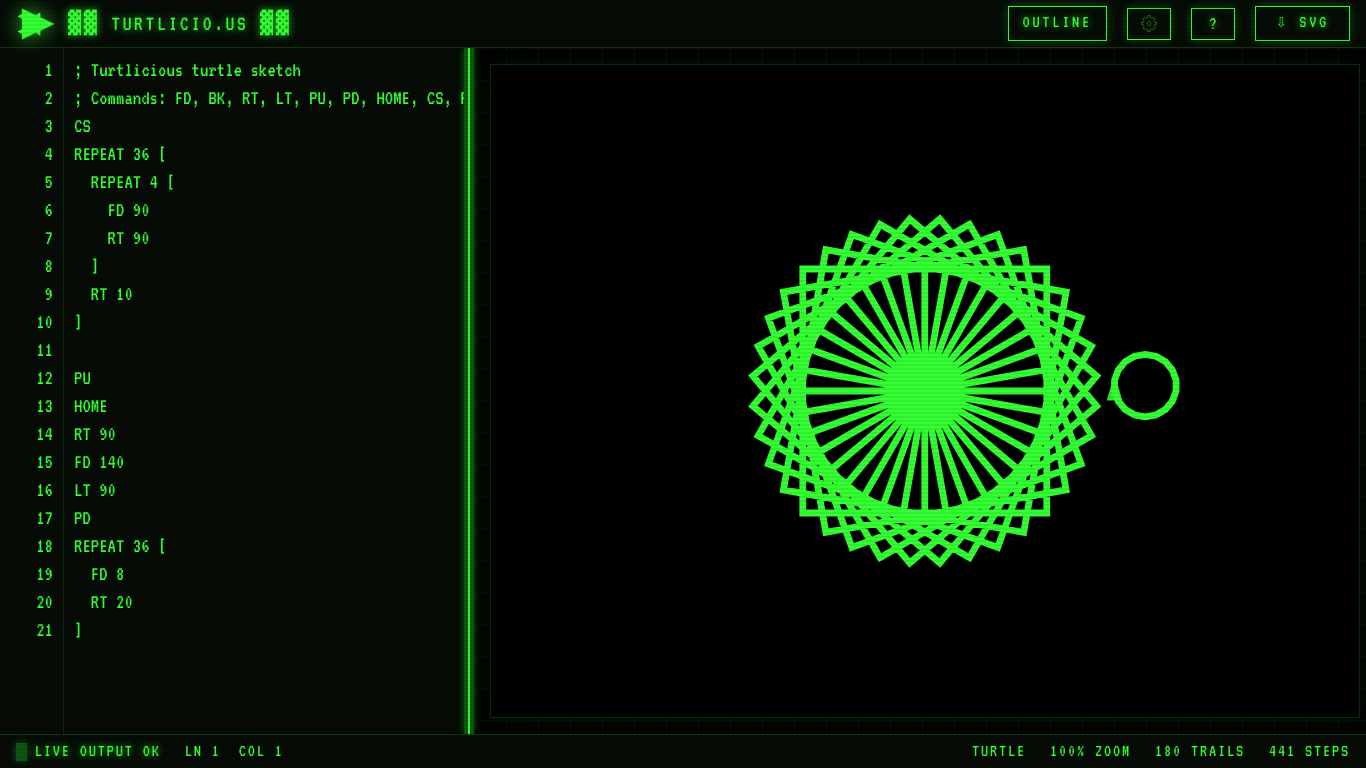
Test: App › opens and closes the configuration modal
This screenshot has width=1366, height=768.
Click the button named "open configuration" at (1149, 24), box [1127, 8, 1171, 40]
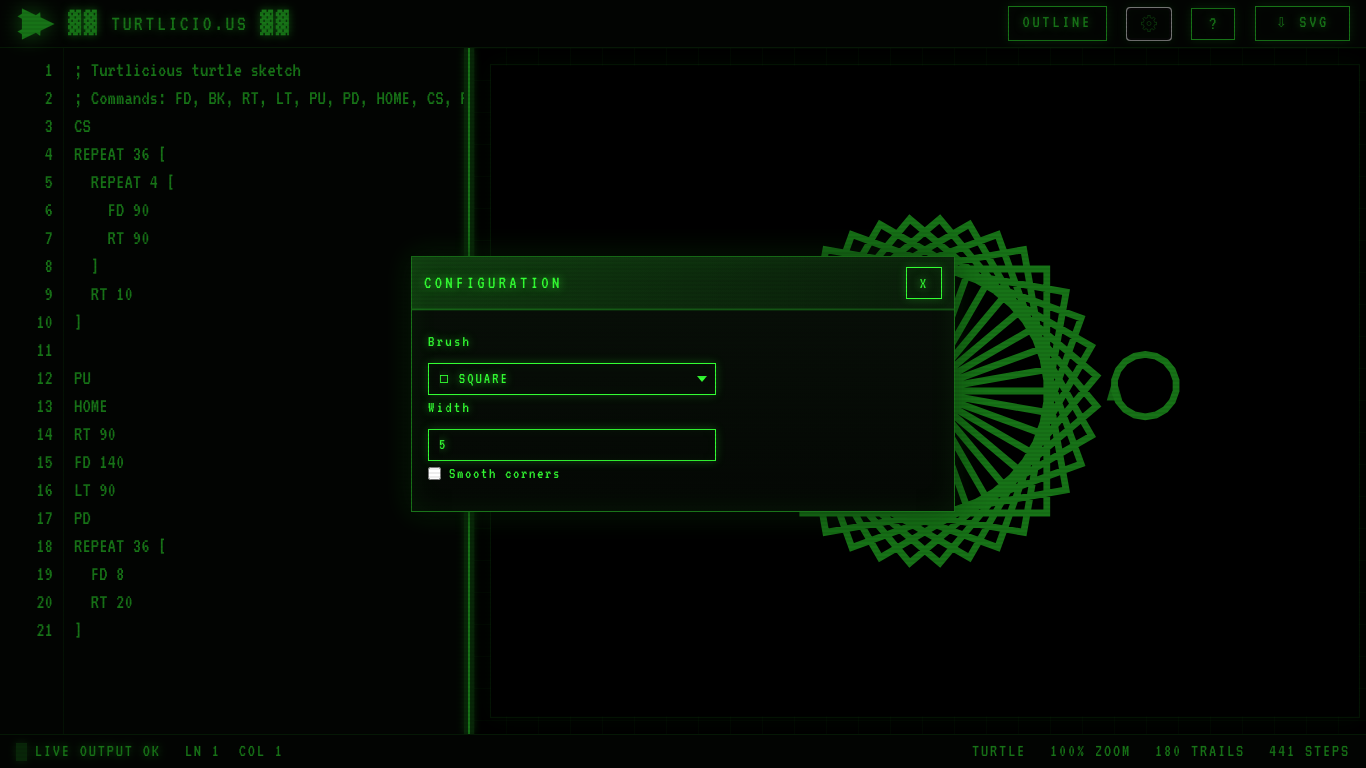
expect the dialog "CONFIGURATION X Brush Width Smooth corners" is shown: met, box [411, 256, 955, 512]
Click the button named "close configuration" at (924, 283), box [906, 267, 942, 299]
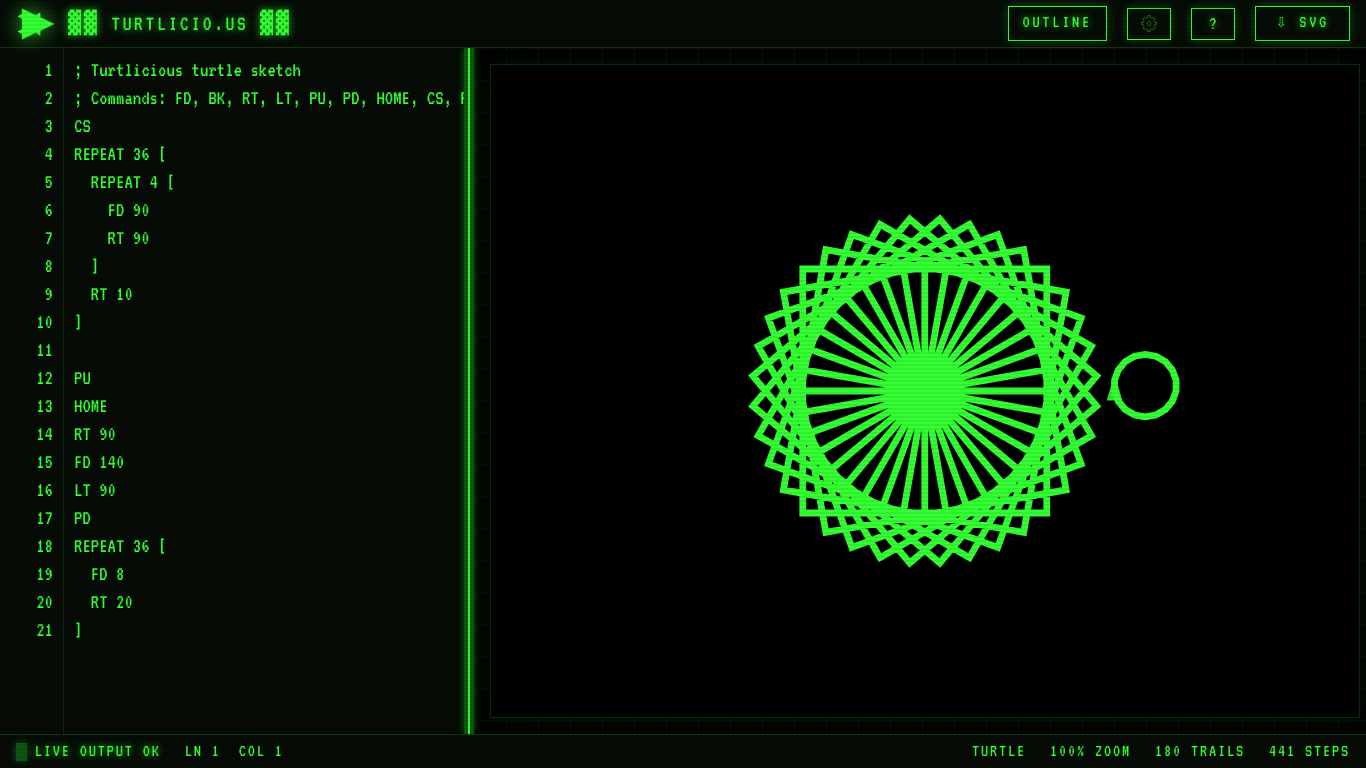
expect the text "CONFIGURATION" is gone: met
